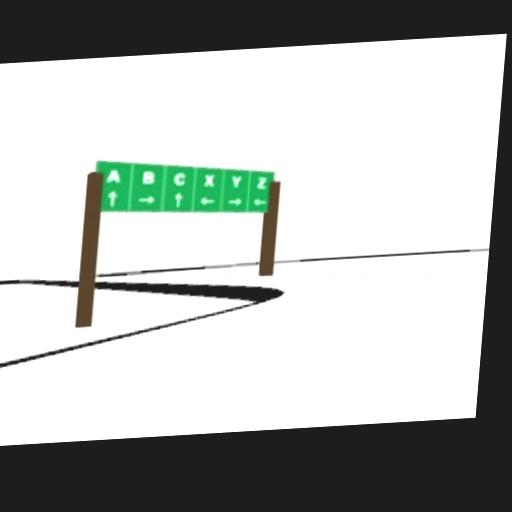A: (107, 169, 120, 182)
B: (141, 171, 154, 184)
C: (173, 172, 186, 187)
Left: (199, 195, 216, 205), (252, 197, 267, 206)
Right: (136, 195, 154, 205), (226, 197, 243, 207)
Straight: (106, 190, 118, 207), (173, 192, 183, 207)
X: (202, 172, 214, 187)
Y: (229, 175, 241, 187)
Z: (255, 176, 267, 189)
